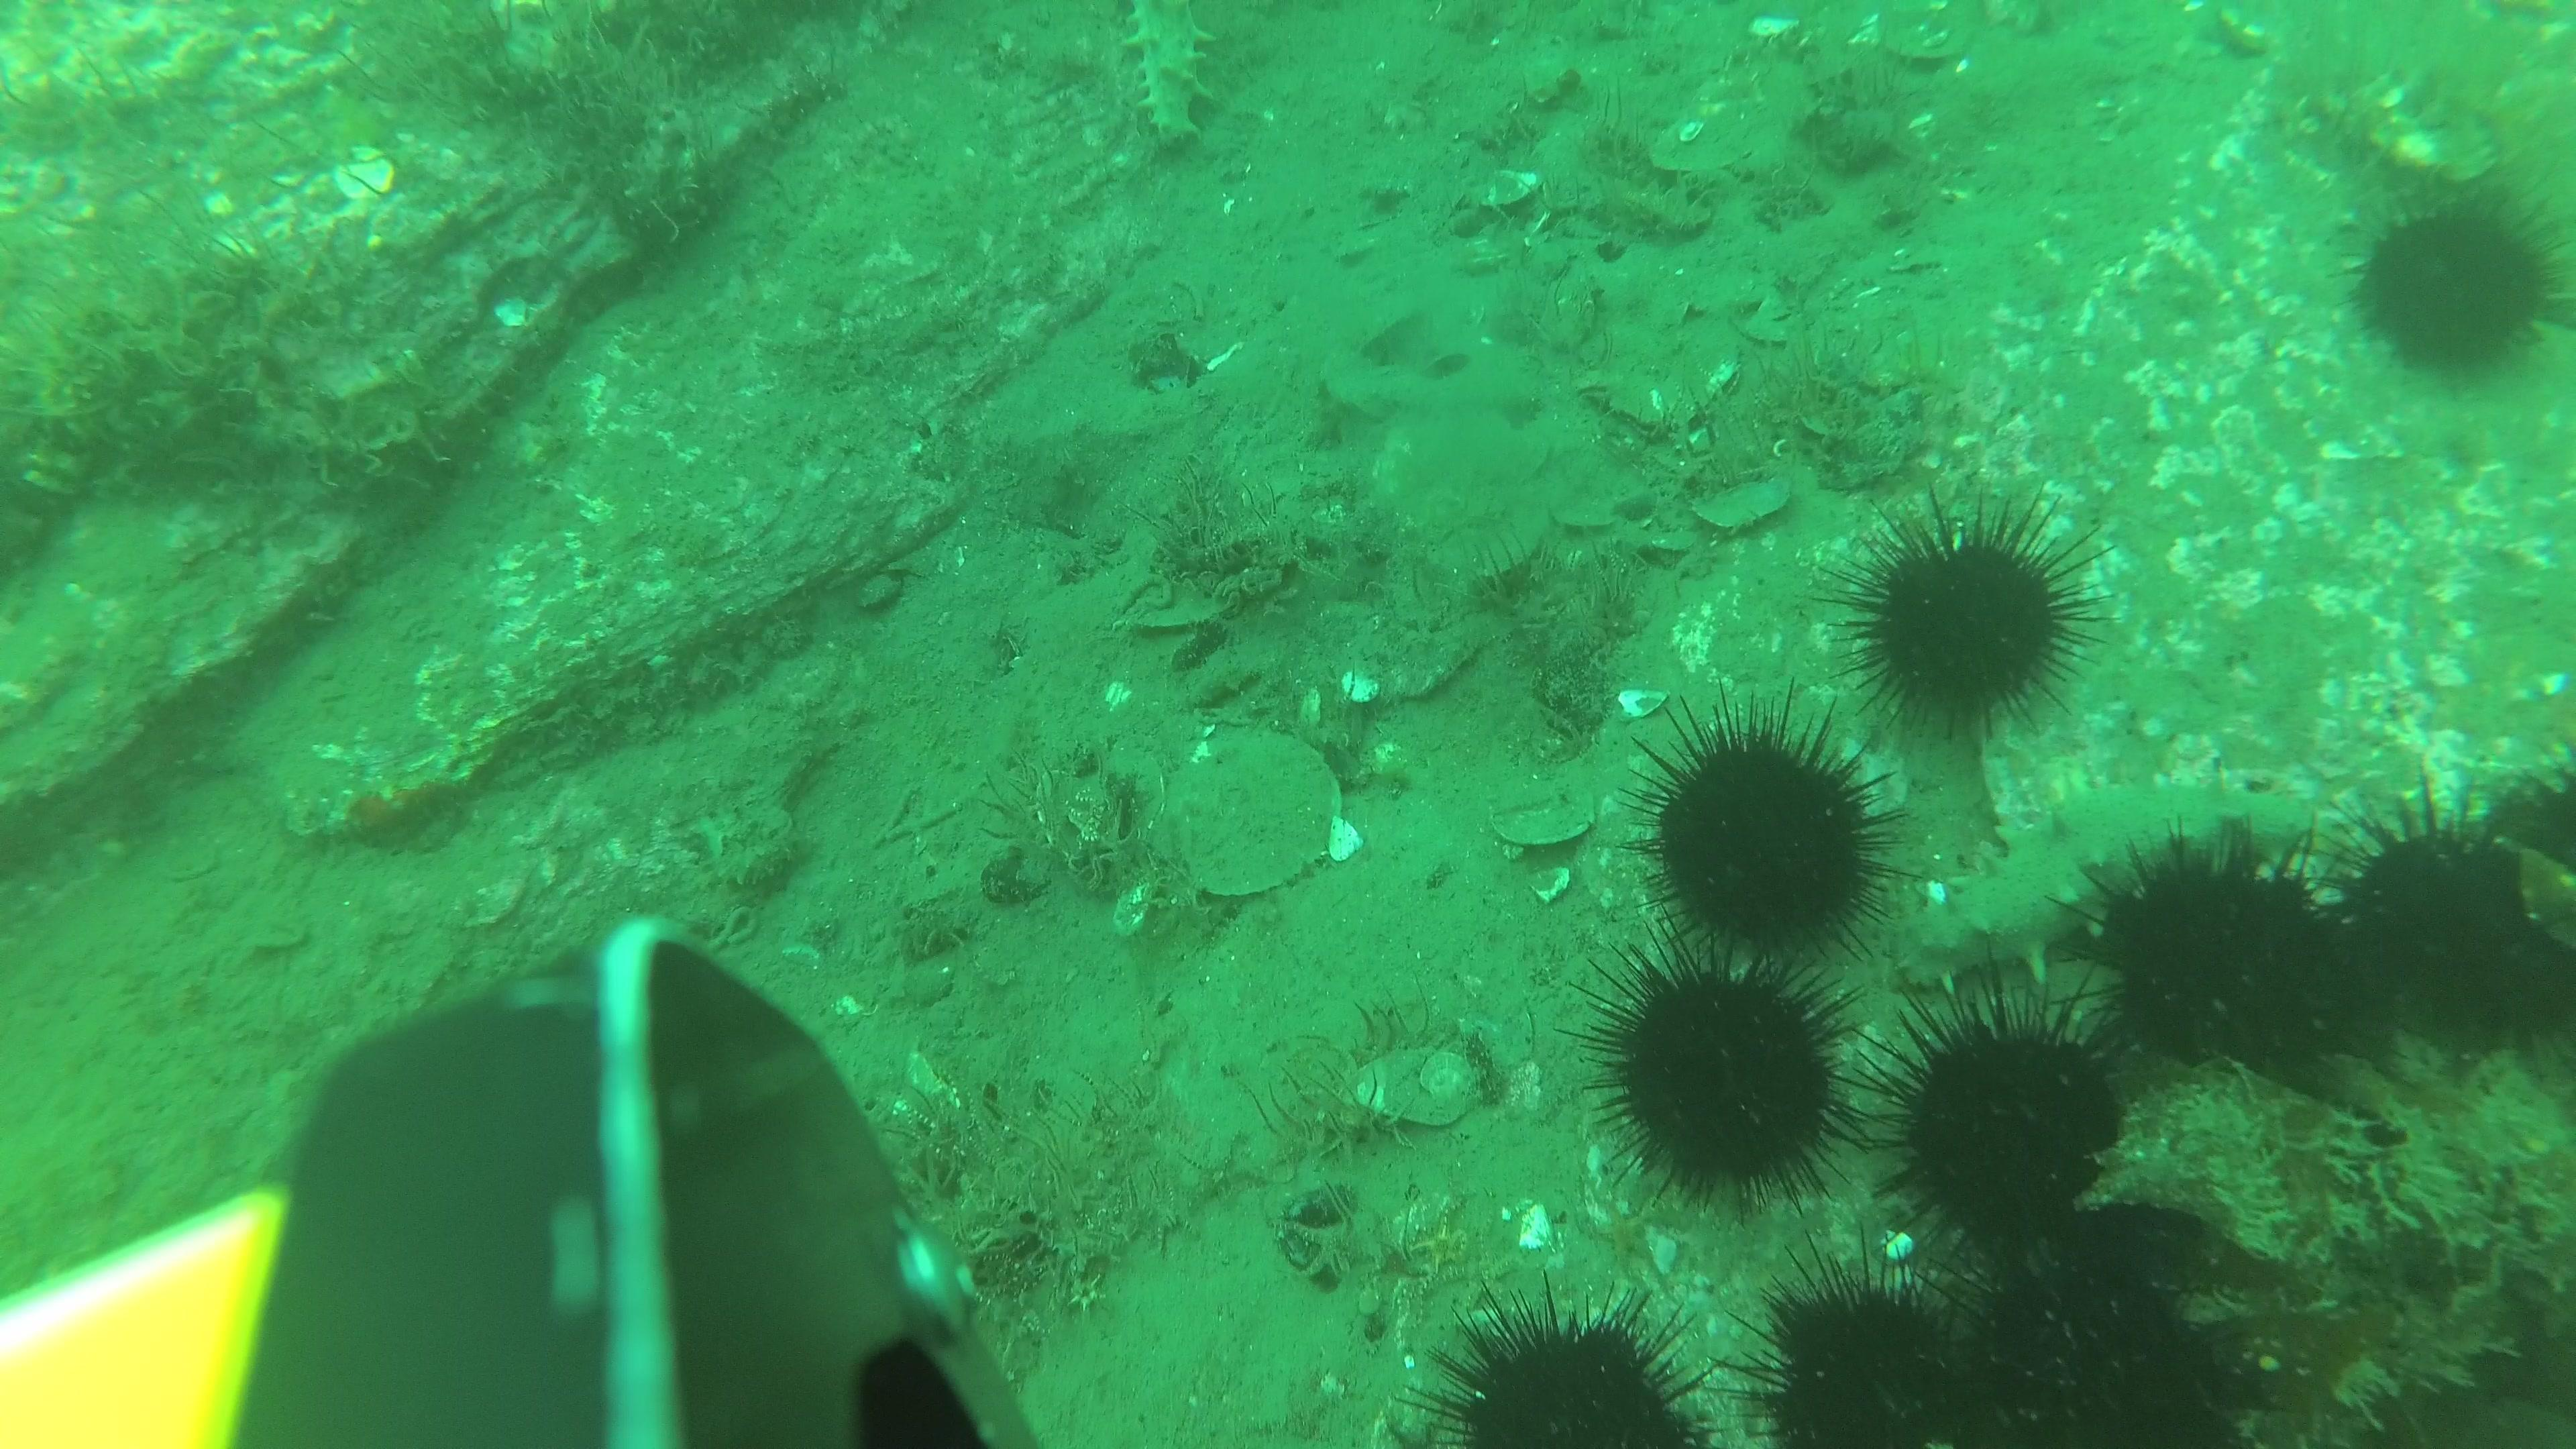echinus: (1575, 916, 1863, 1224), (1865, 955, 2146, 1261), (1622, 692, 1914, 970), (2068, 823, 2341, 1109), (1821, 495, 2118, 747), (1927, 1247, 2220, 1449), (2337, 789, 2546, 1062), (1410, 1283, 1727, 1449), (1737, 1238, 1967, 1449), (2351, 184, 2576, 398), (2493, 777, 2576, 1037)
holothurian: (1891, 787, 2318, 994), (1125, 0, 1210, 145)
scallop: (1164, 732, 1348, 902), (1359, 1046, 1481, 1132), (1493, 798, 1596, 849)
